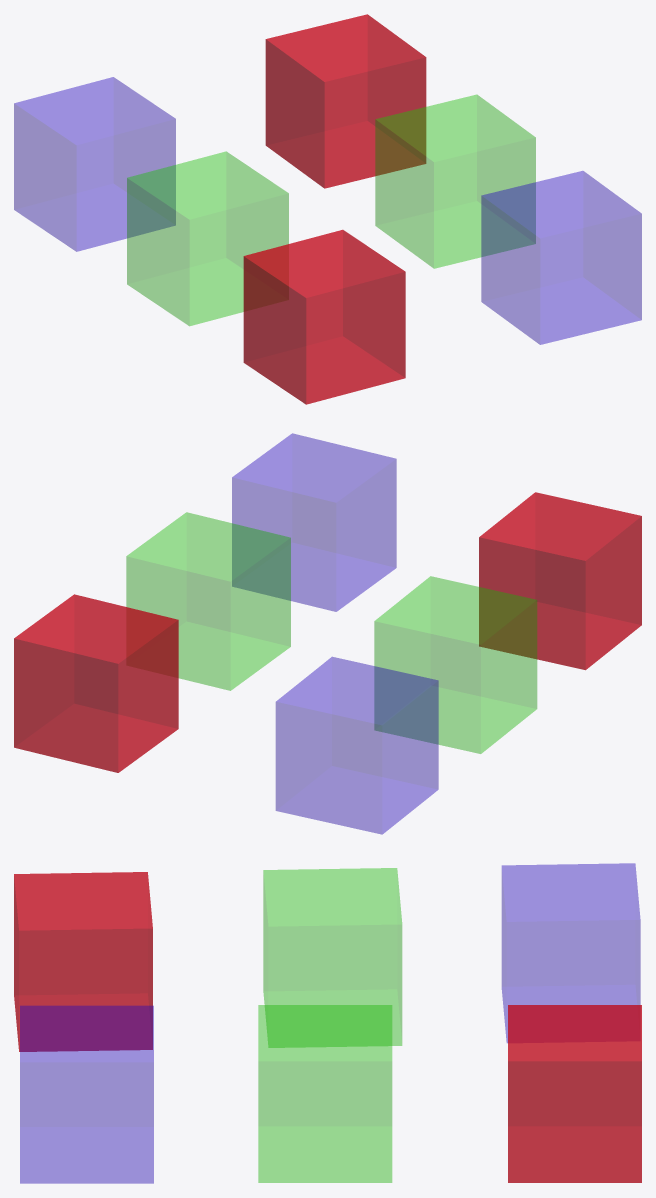
Rendered from cubes.glb.
The picture shows the model from 3 angles, top to bottom: view 1: azimuth 30°, elevation 25°; view 2: azimuth 150°, elevation 25°; view 3: azimuth 270°, elevation 25°; orthographic projection. The views are drawn at different scales.
Parts seen in each view (by area): view 1: Cube.004, Cube.001, Cube.003, Cube.002, Cube, Cube.005; view 2: Cube.001, Cube.002, Cube.004, Cube.003, Cube.005, Cube; view 3: Cube.004, Cube.005, Cube, Cube.001, Cube.002, Cube.003.
Boxes of the visible parts, x1,y1,x2,y2 form: Cube.004: [243, 229, 405, 404]; Cube.001: [265, 14, 426, 188]; Cube.003: [14, 77, 175, 251]; Cube.002: [481, 171, 641, 344]; Cube: [375, 94, 535, 268]; Cube.005: [127, 151, 288, 325]; Cube.001: [14, 594, 178, 772]; Cube.002: [232, 433, 396, 611]; Cube.004: [479, 492, 641, 670]; Cube.003: [276, 657, 438, 834]; Cube.005: [374, 576, 536, 753]; Cube: [126, 512, 290, 690]; Cube.004: [14, 872, 152, 1051]; Cube.005: [263, 868, 401, 1047]; Cube: [258, 1005, 391, 1182]; Cube.001: [508, 1005, 641, 1182]; Cube.002: [20, 1006, 153, 1183]; Cube.003: [502, 863, 640, 1042].
Size of the model in its own units: 7.03 by 2 by 9.37.
